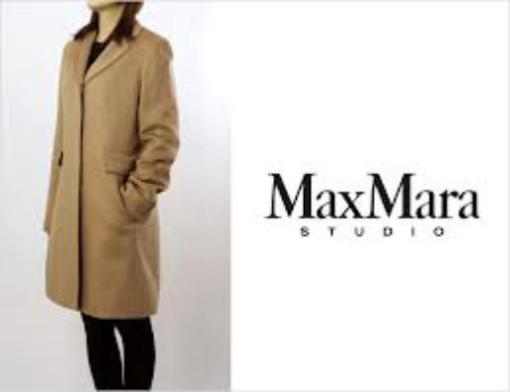MAX-MARA: (262, 166, 482, 217)
